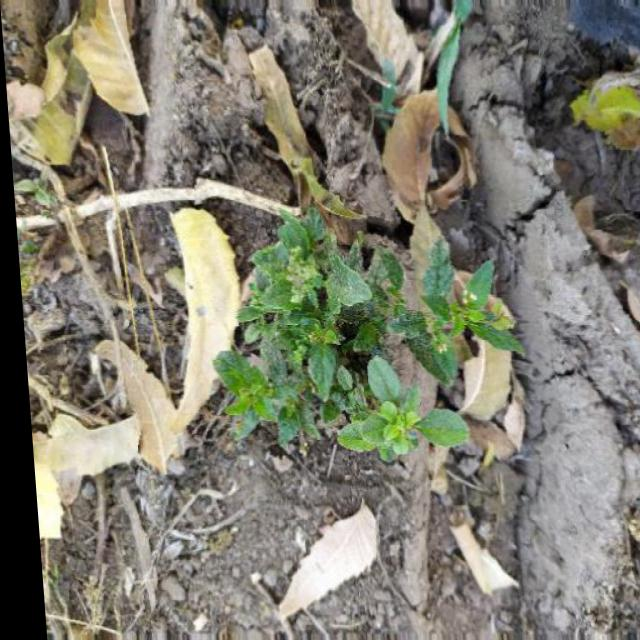weed: (187, 214, 534, 474)
